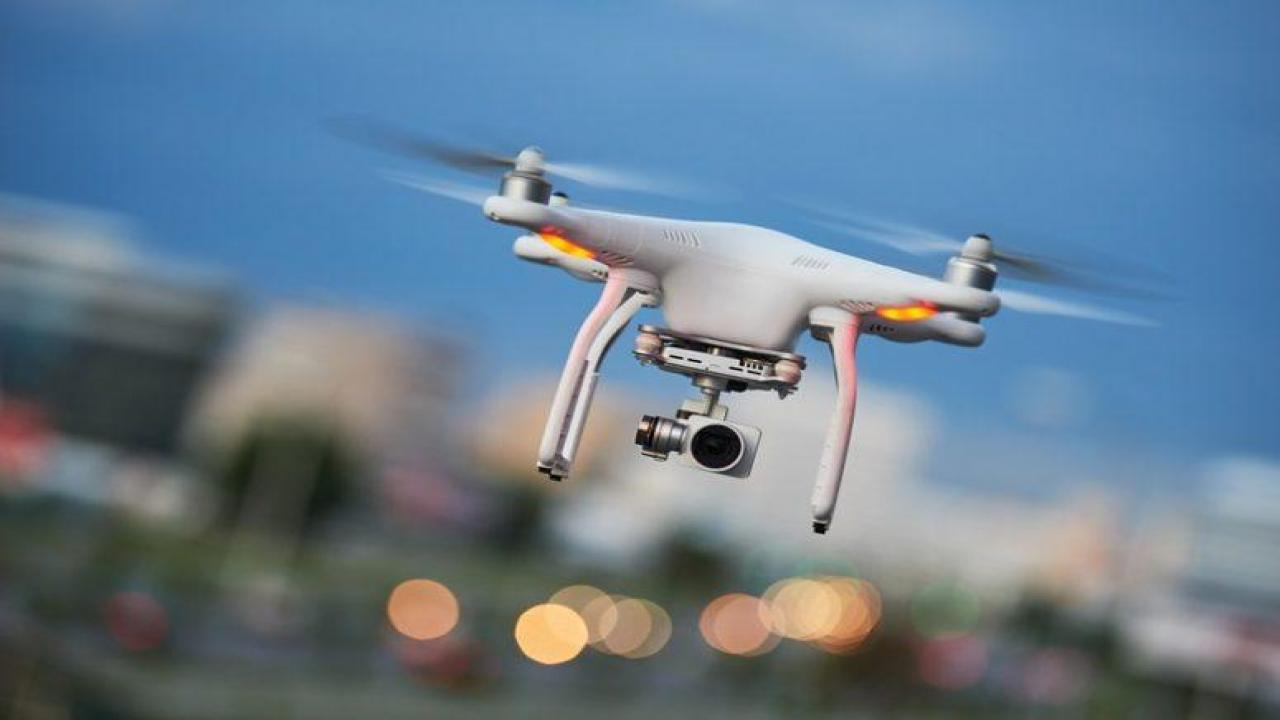Drone: (306, 90, 1204, 542)
